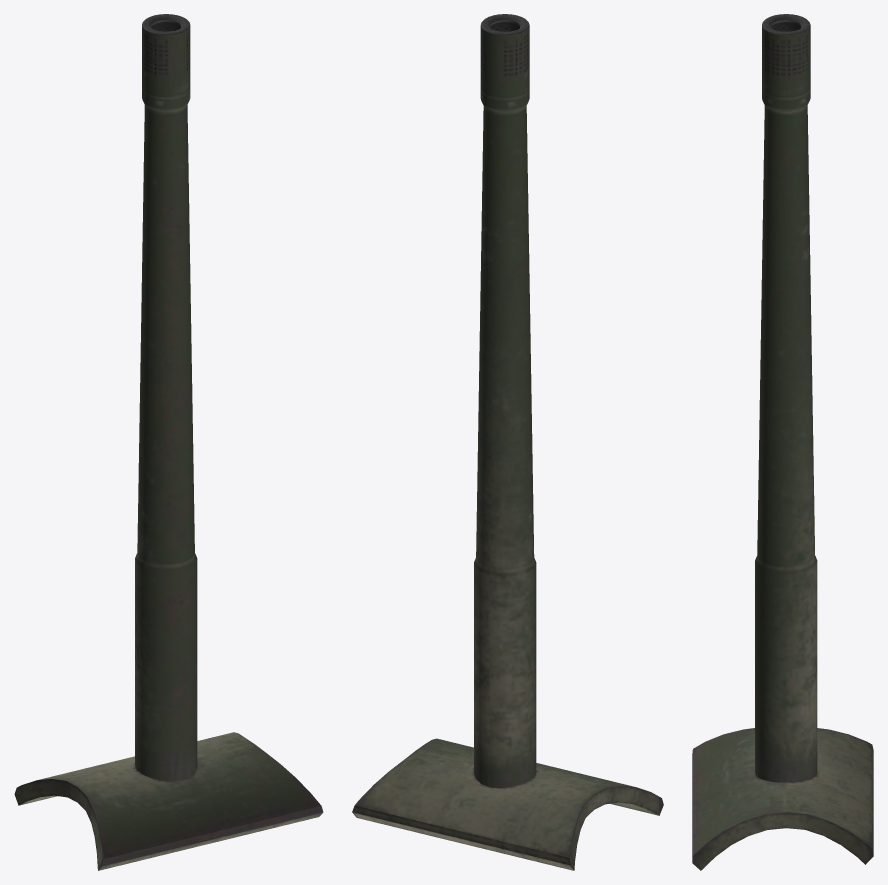
The model's file is Gun_04.glb.
3 views of the same model, side by side, from view 1: azimuth 30°, elevation 25°; view 2: azimuth 150°, elevation 25°; view 3: azimuth 270°, elevation 25° (orthographic).
Visible parts, largest first — view 1: set_0_group_0; view 2: set_0_group_0; view 3: set_0_group_0.
Part boxes in pixels (box(x1,y1,x2,y2)): set_0_group_0: box(14, 14, 323, 870); set_0_group_0: box(352, 14, 663, 870); set_0_group_0: box(692, 14, 873, 870).
Size of the model in its own units: 0.8136 by 2.77 by 0.5745.
Materials: 1 (1 with a texture image).
